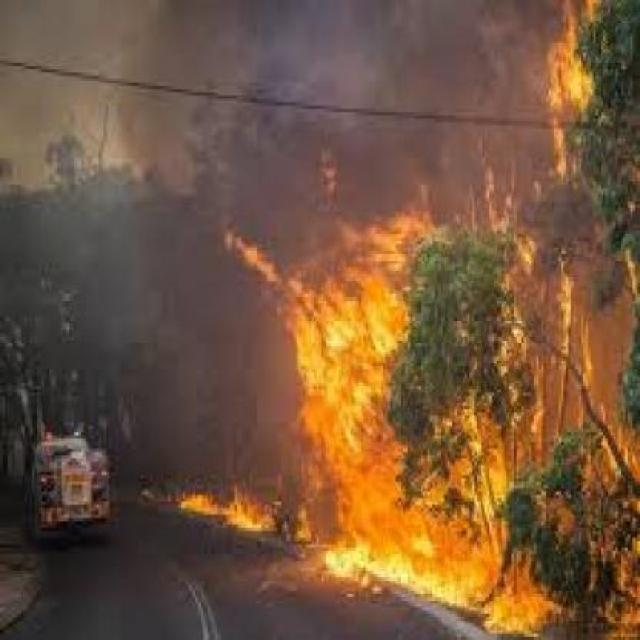Fire: (227, 175, 639, 640), (508, 0, 640, 302)
